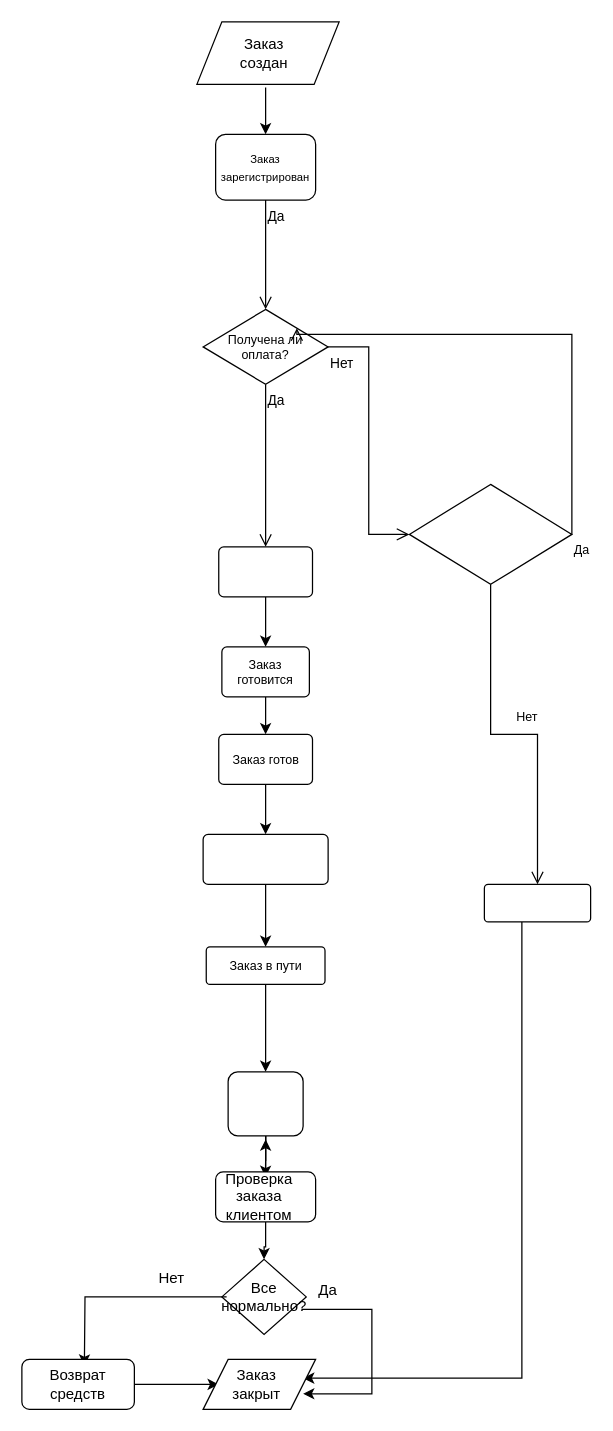
The diagram is 613 pixels wide and 1431 high, and some of its shapes have lost their labels. The shapes that lost their labels are listed below. From the top down, each one's centre as x and y in pixels, then its label:
At [490,533]: "Была ли попытка повторной оплаты?".
At [265,571]: "Заказ передан шефу".
At [265,858]: "Заказ передан курьеру".
At [537,902]: "Заказ отменён".
At [265,1103]: "Заказ доставлен".
